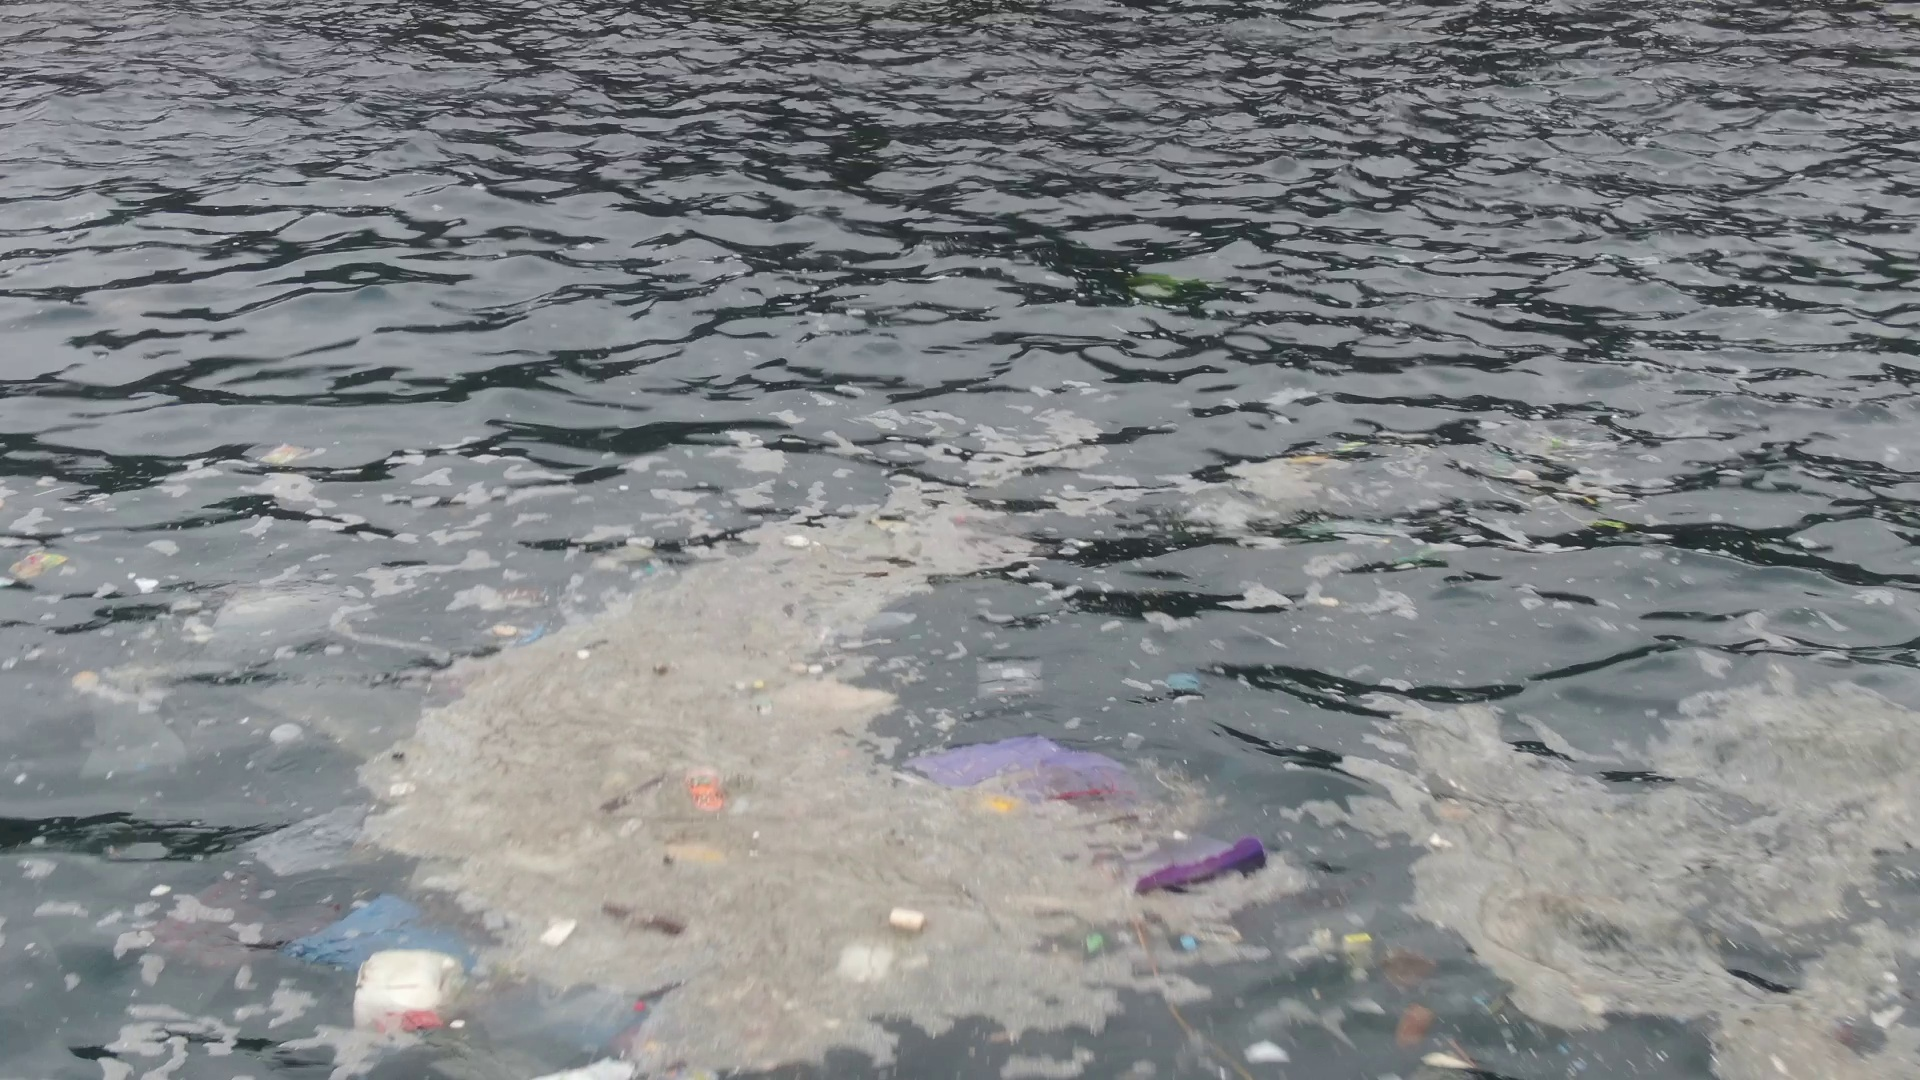garbage: (225, 736, 1493, 1077), (1317, 522, 1447, 567), (11, 547, 69, 582), (261, 443, 307, 467), (1170, 674, 1205, 692)
